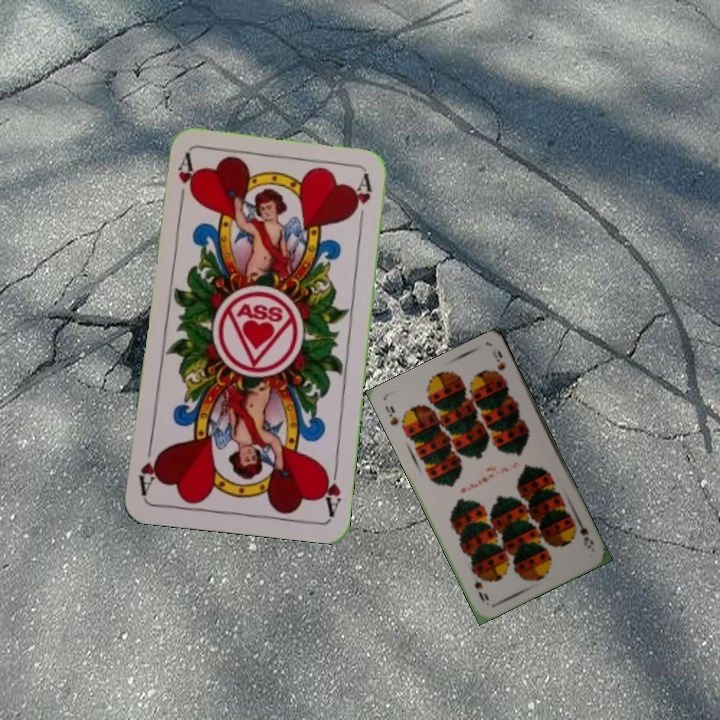HA: (317, 459, 344, 518), (174, 151, 194, 210)
S9: (572, 514, 596, 551), (381, 402, 401, 428)
